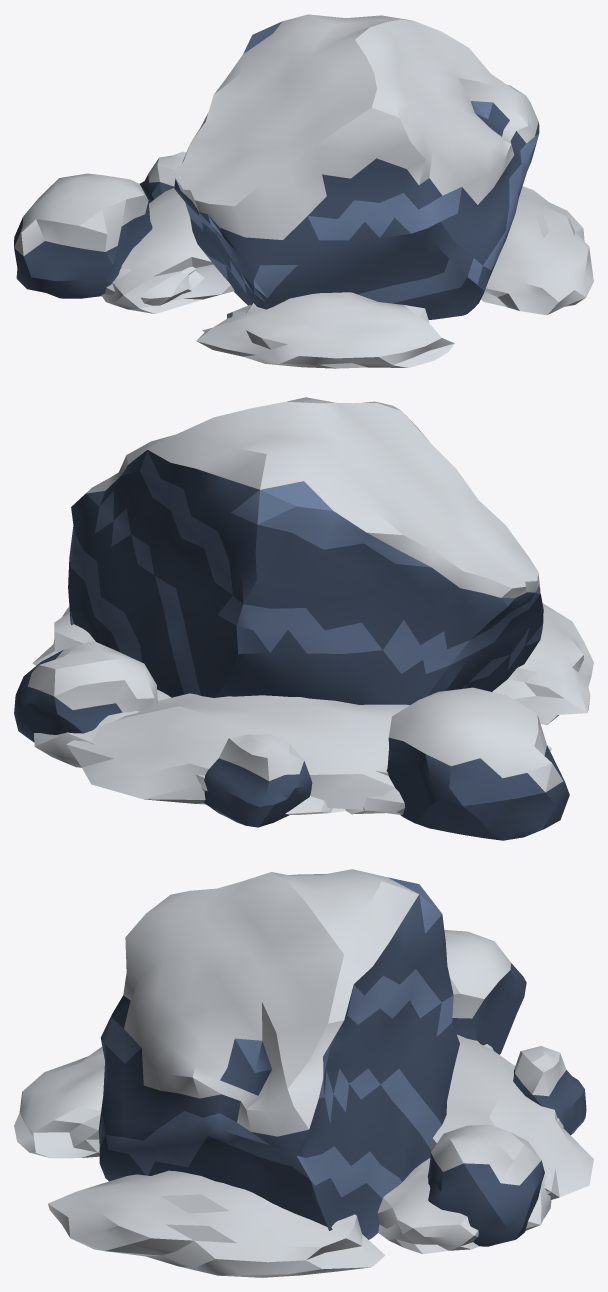
The model's file is rock_snow_b.glb.
The picture shows the model from 3 angles, top to bottom: view 1: azimuth 30°, elevation 25°; view 2: azimuth 150°, elevation 25°; view 3: azimuth 270°, elevation 25°; orthographic projection. The views are drawn at different scales.
Parts seen in each view (by area): view 1: rock_snow_b; view 2: rock_snow_b; view 3: rock_snow_b.
Part boxes in pixels (x1,y1,x2,y2): rock_snow_b: [14, 14, 593, 368]; rock_snow_b: [14, 397, 593, 840]; rock_snow_b: [14, 869, 593, 1277].
Size of the model in its own units: 2.05 by 0.9804 by 1.8.
